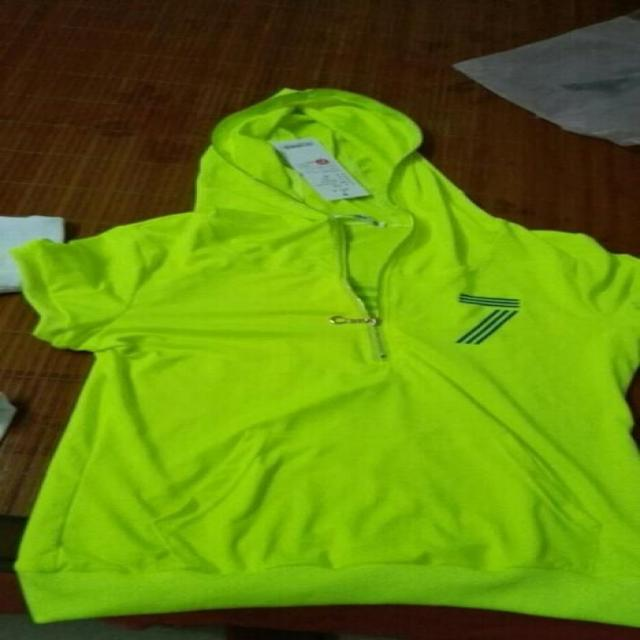short sleeve top: (18, 224, 632, 625)
